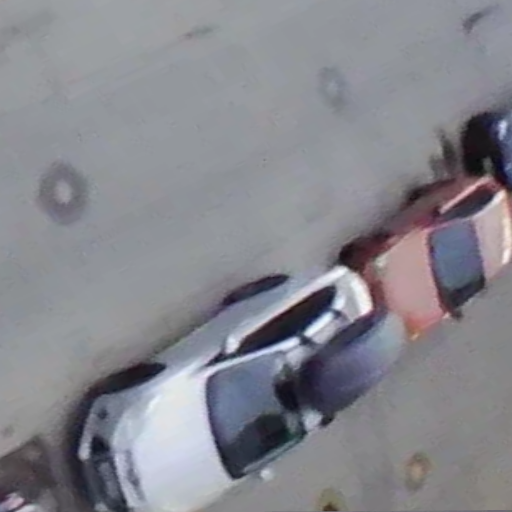Car: (80, 262, 383, 509), (341, 173, 509, 331)
